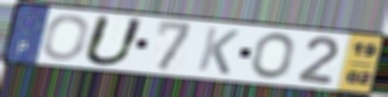2: (296, 35, 342, 87)
7: (154, 19, 195, 74)
K: (195, 25, 242, 77)
O: (40, 13, 92, 62), (249, 31, 296, 81)
U: (80, 13, 149, 68)
